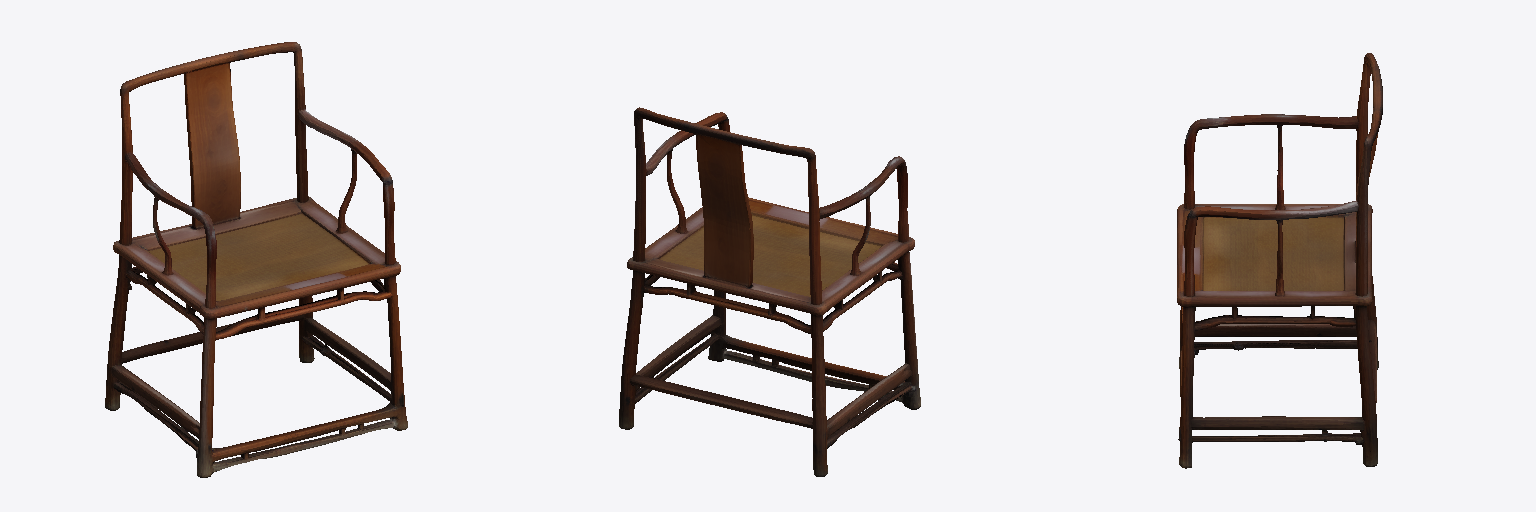
3 renders of one model, left to right at view 1: azimuth 30°, elevation 25°; view 2: azimuth 150°, elevation 25°; view 3: azimuth 270°, elevation 25°, orthographic.
Visible parts, largest first — view 1: geometry_0; view 2: geometry_0; view 3: geometry_0.
Boxes of the visible parts, x1=… form: geometry_0: x1=105, y1=42, x2=407, y2=477; geometry_0: x1=619, y1=107, x2=920, y2=476; geometry_0: x1=1177, y1=53, x2=1382, y2=468.
Size of the model in its own units: 0.6811 by 1 by 0.5799.
Materials: 1 (1 with a texture image).